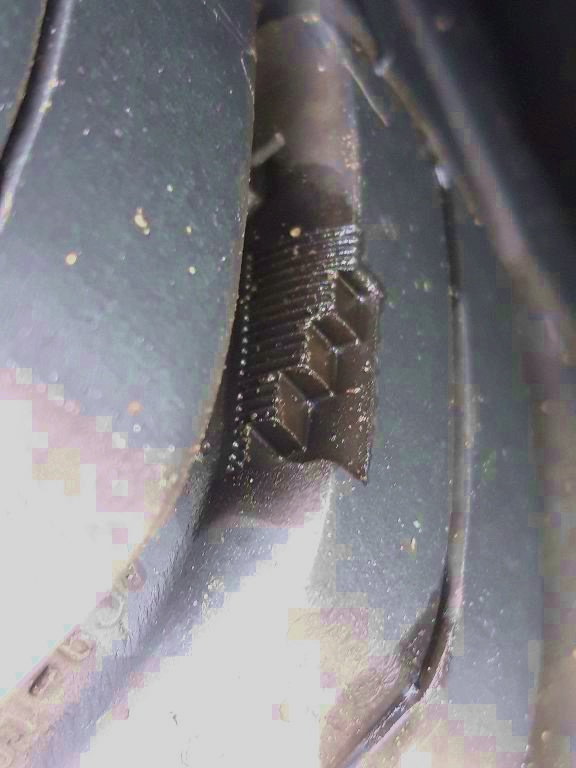temoin:90: (220, 217, 393, 495)
